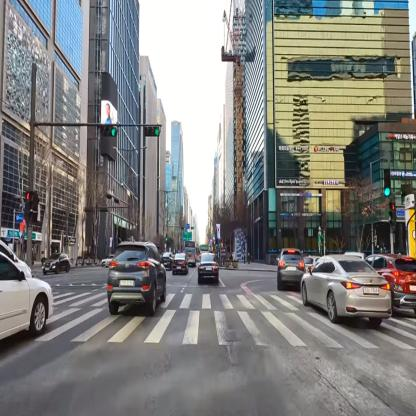Green: (101, 124, 118, 138), (144, 124, 160, 138)
